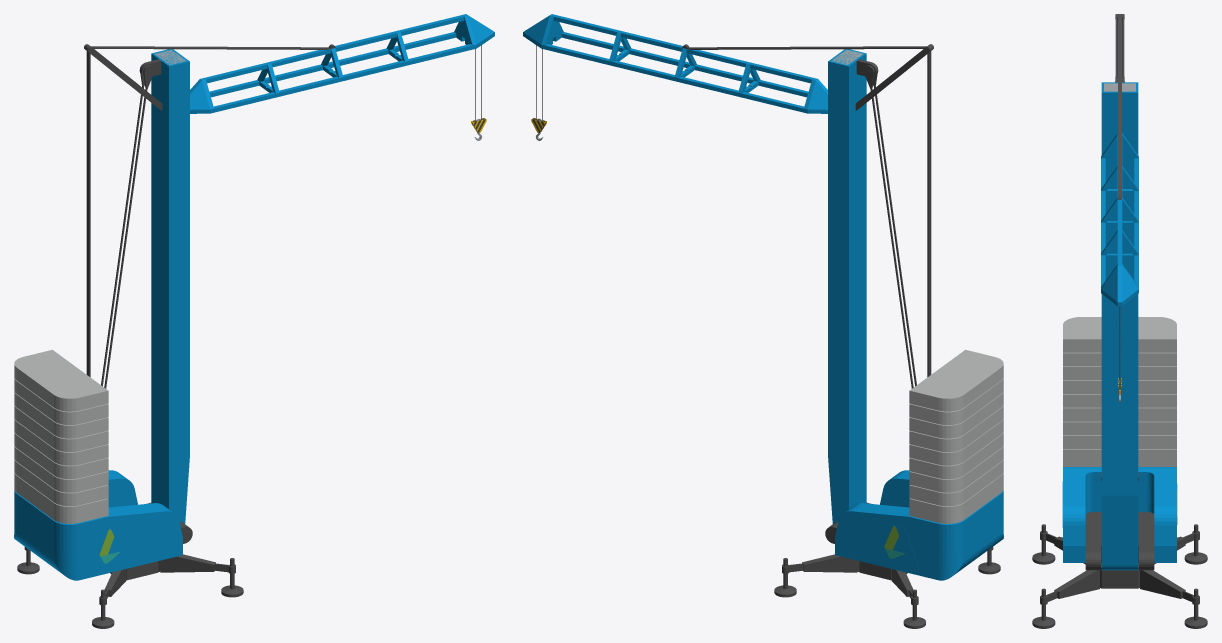
File: H-Mauerwerk-5m_dae.dae
3 views of the same model, side by side, from view 1: azimuth 30°, elevation 25°; view 2: azimuth 150°, elevation 25°; view 3: azimuth 270°, elevation 25° (orthographic). The views are drawn at different scales.
Visible parts, largest first — view 1: 2fl92Gvkb1ZgrKn5jgXywz; view 2: 2fl92Gvkb1ZgrKn5jgXywz; view 3: 2fl92Gvkb1ZgrKn5jgXywz.
Part boxes in pixels (box(x1,y1,x2,y2)): 2fl92Gvkb1ZgrKn5jgXywz: box(14, 14, 494, 628); 2fl92Gvkb1ZgrKn5jgXywz: box(523, 14, 1003, 628); 2fl92Gvkb1ZgrKn5jgXywz: box(1032, 14, 1207, 628).
Bounding box in the file's own units: 7.09 × 2.3 × 8.07.
